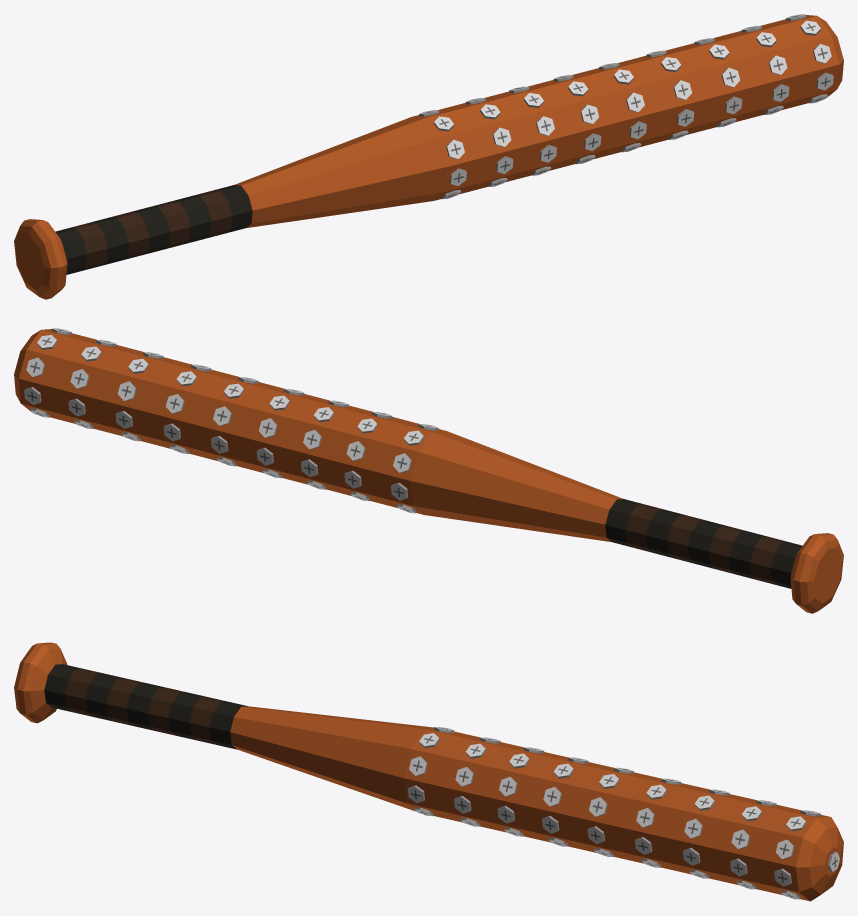
File: WorldItem_TrenchBat.fbx
3 renders of one model, top to bottom at view 1: azimuth 30°, elevation 25°; view 2: azimuth 150°, elevation 25°; view 3: azimuth 330°, elevation 25°, orthographic.
Visible parts, largest first — view 1: ZomboidTrenchBat; view 2: ZomboidTrenchBat; view 3: ZomboidTrenchBat.
Part boxes in pixels (box(x1,y1,x2,y2)): ZomboidTrenchBat: box(14, 14, 843, 299); ZomboidTrenchBat: box(14, 328, 843, 613); ZomboidTrenchBat: box(14, 642, 843, 901).
Bounding box in the file's own units: 0.5219 × 0.0552 × 0.0506.
